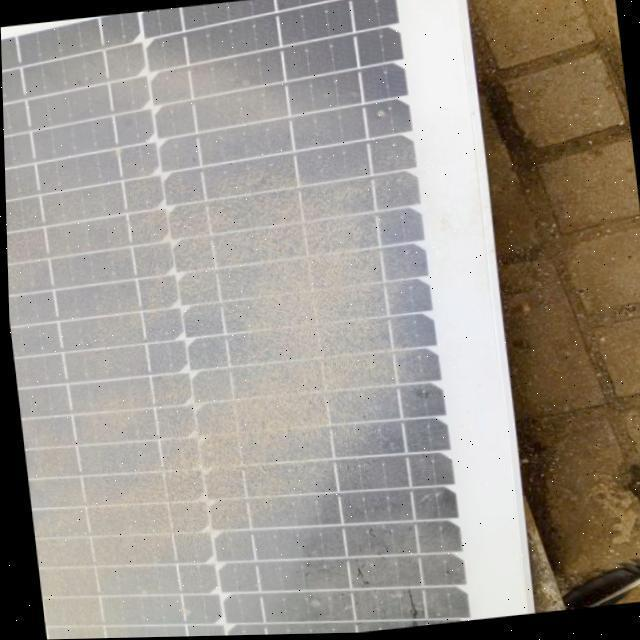Anomaly Solar Panel: (0, 0, 496, 640)
Surface Contaminant: (2, 24, 469, 639)
